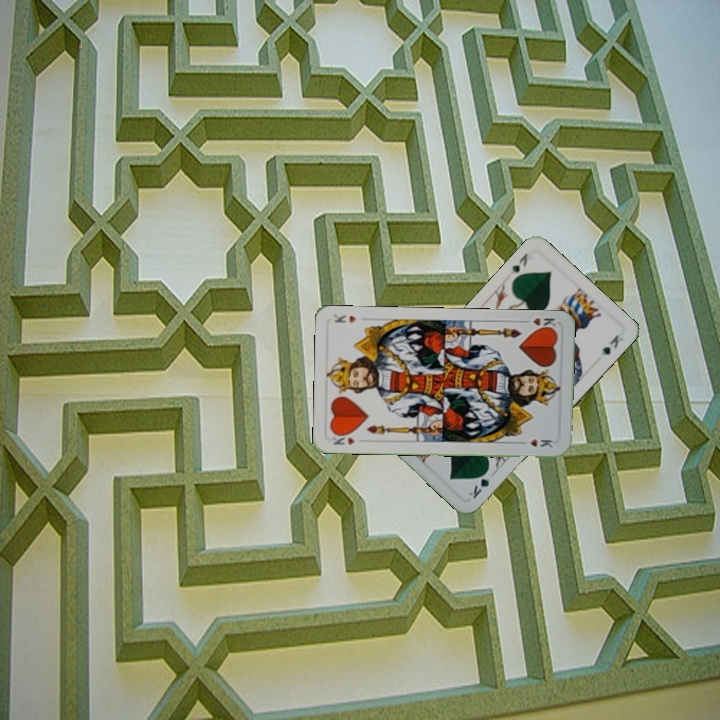GK: (464, 465, 492, 502), (506, 249, 530, 277)
HK: (518, 313, 559, 333), (329, 433, 357, 447)
